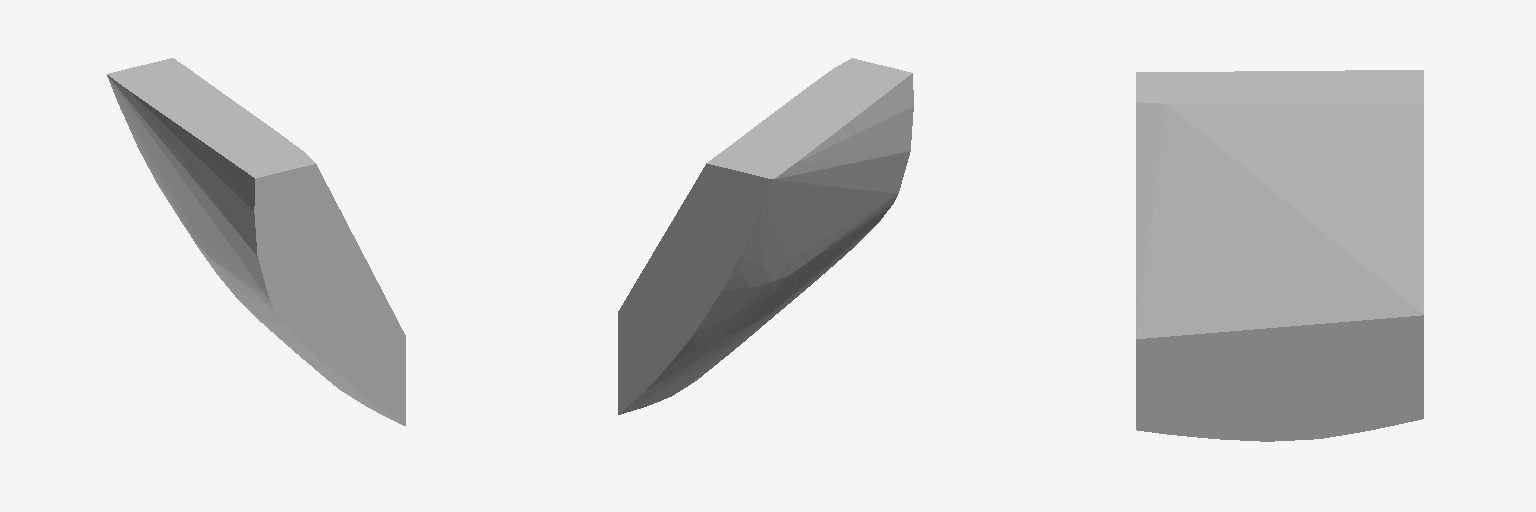
Rendered from phantom-elastrat_collision_644.obj.
The picture shows the model from 3 angles: view 1: azimuth 30°, elevation 25°; view 2: azimuth 150°, elevation 25°; view 3: azimuth 270°, elevation 25°; orthographic projection.
Size of the model in its own units: 0.0041 by 0.0074 by 0.0066.